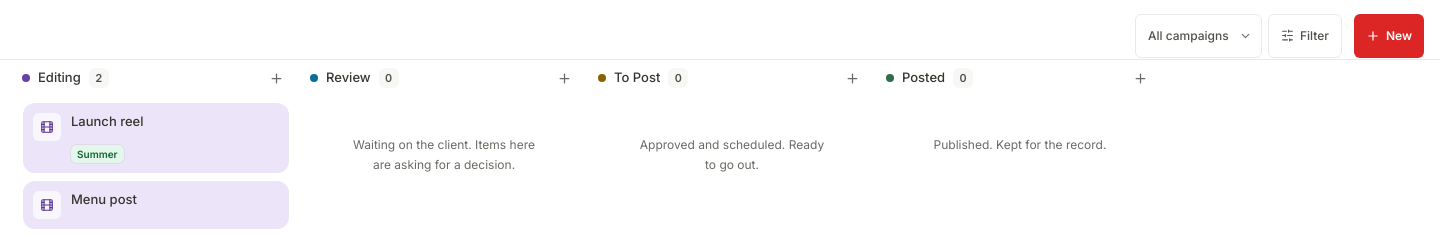
it: ContentBoard › narrows the board to one campaign
The image size is (1440, 246).
Expected: the text "Menu post" is shown, [71,191,137,207]
Select "Summer" in the dropdown named "Campaign". click: (1198, 36)
box: [1135,14,1262,58]
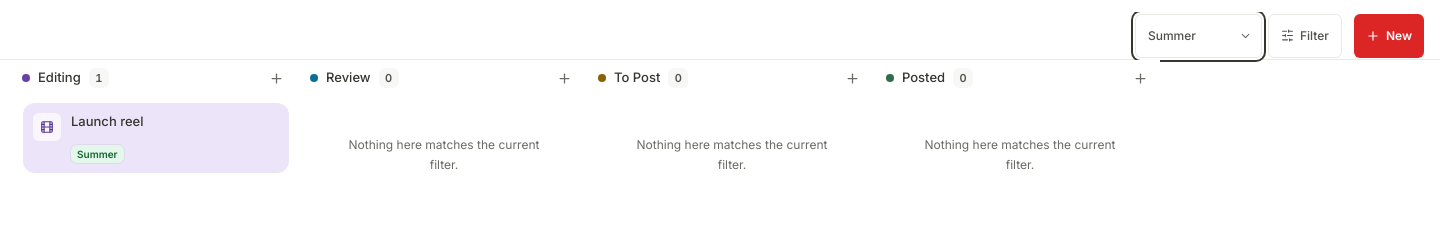
Expected: the text "Launch reel" is shown, [71,113,144,129]
Result: the button "Menu post" is gone
